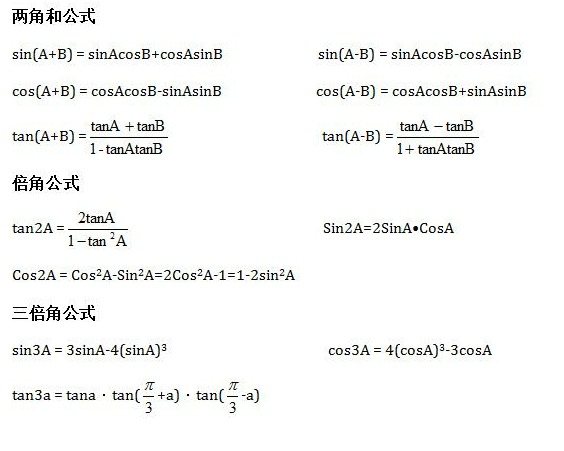cube: (437, 342, 446, 351), (160, 342, 167, 352)
division: (67, 225, 131, 235), (89, 132, 165, 140), (394, 134, 481, 140), (143, 393, 157, 399), (224, 394, 238, 399)
square: (195, 267, 204, 277), (136, 266, 144, 277), (279, 267, 287, 278), (108, 230, 115, 239), (96, 266, 102, 275)
